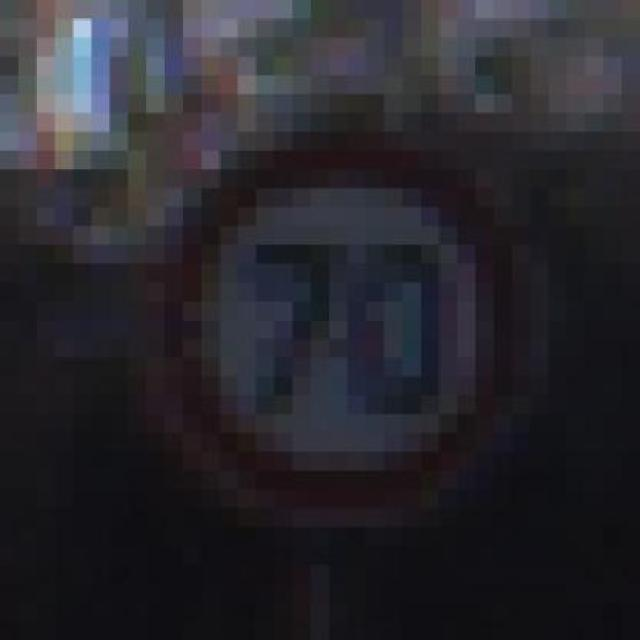forb_speed_over_70: (182, 141, 516, 497)
